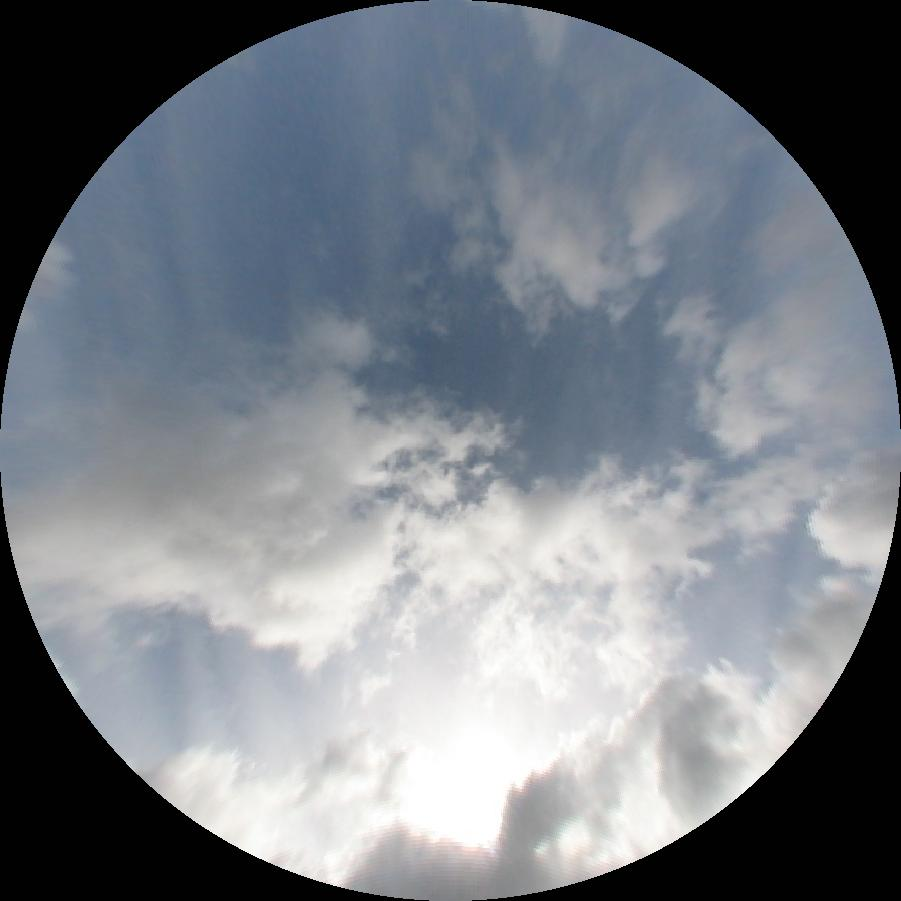sun: (399, 734, 514, 843)
